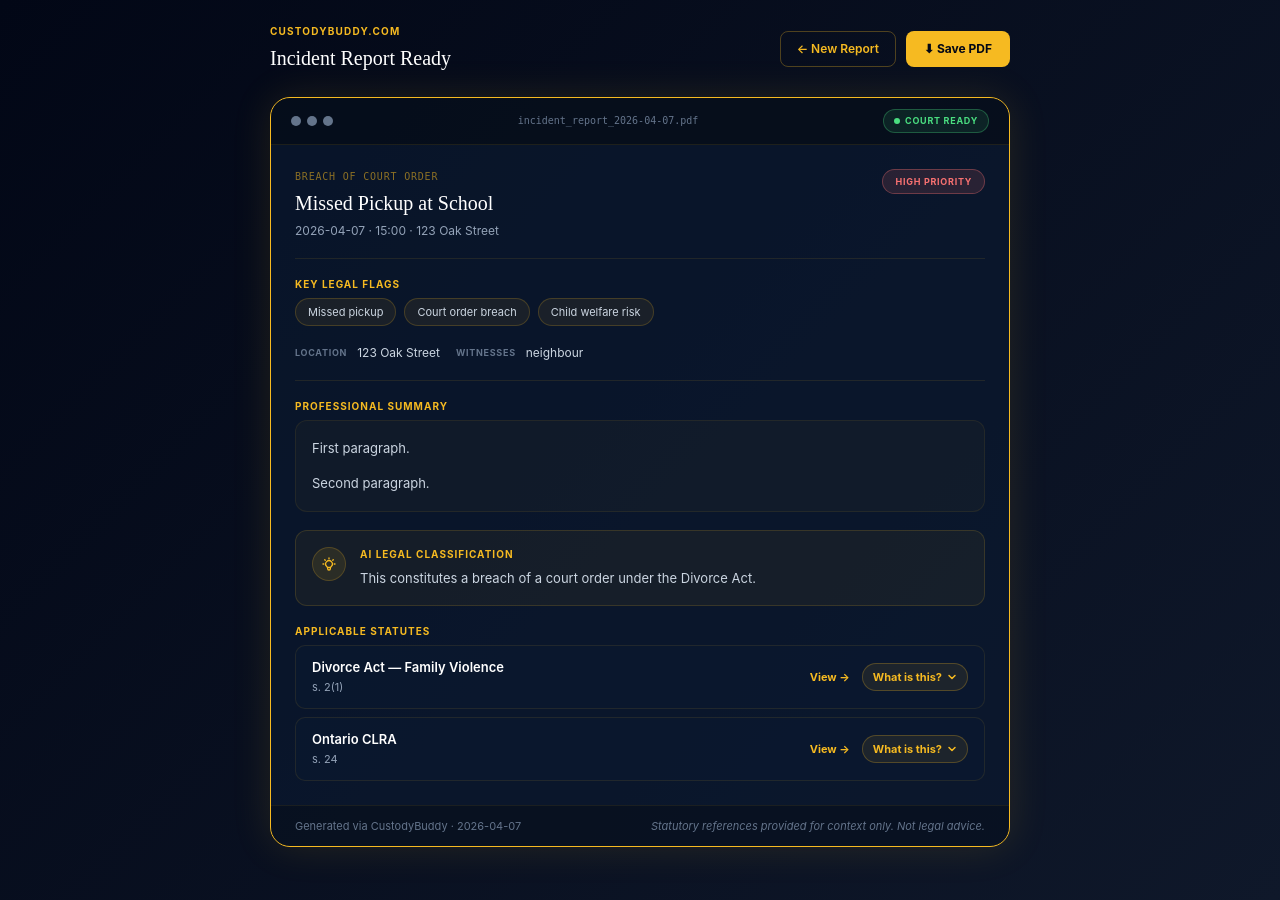
Test: IncidentReportCard › expands plain language explanation on "What is this?" click
Click the button "What is this?" in the row of "Divorce Act — Family Violence": coordinates (915, 677) [862,663,968,691]
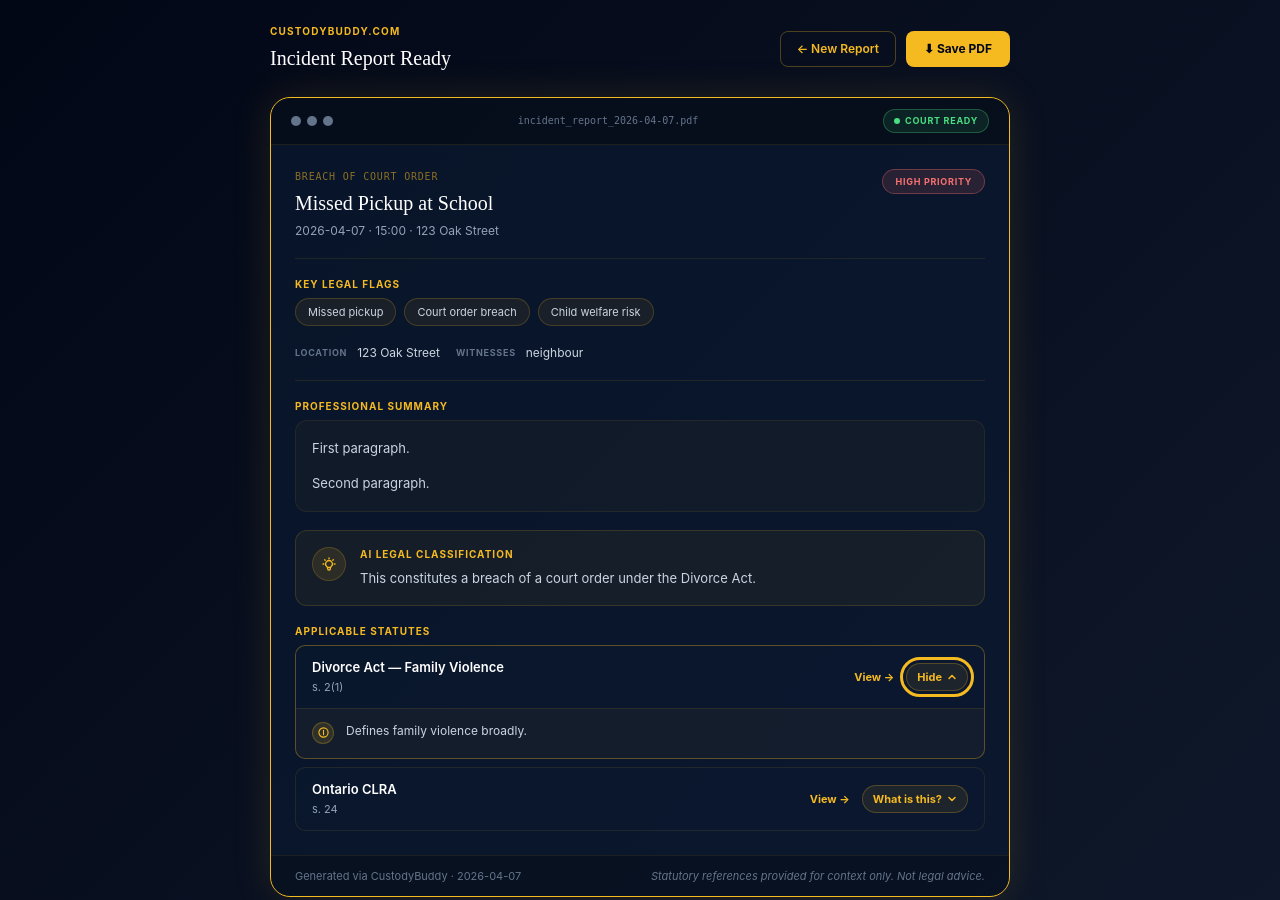
Expected: the text "Defines family violence broadly." is shown, [346,721,527,741]
